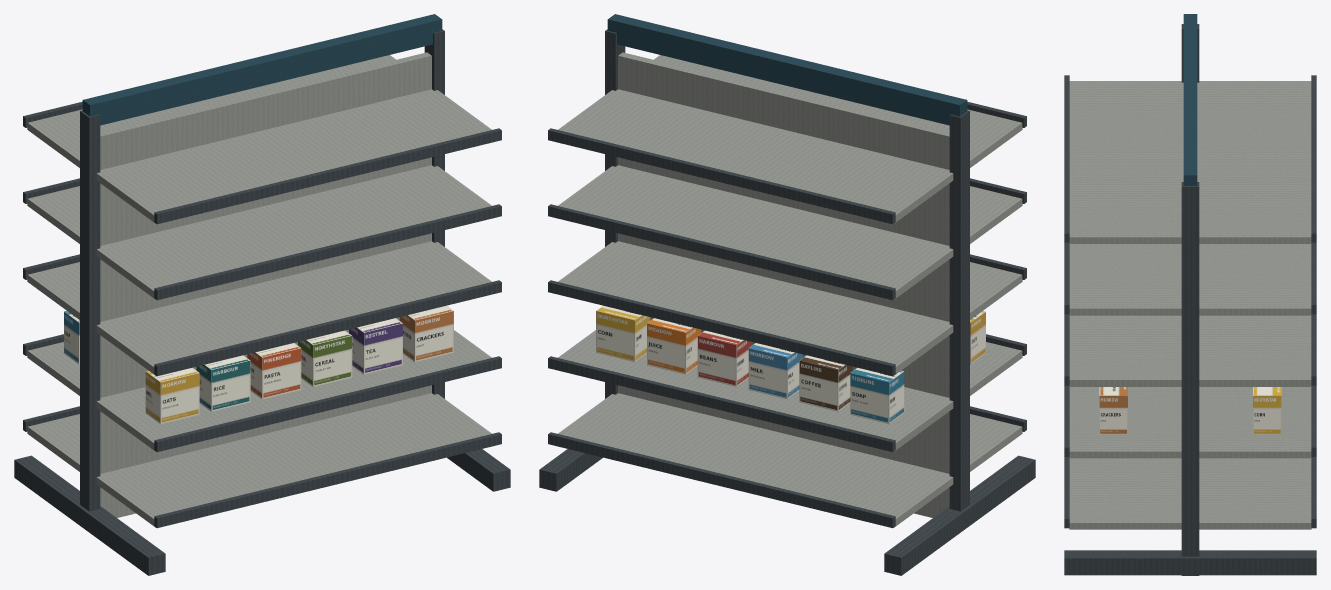
The model's file is PZ_Market_DoubleSided_Aisle_2m.glb.
The picture shows the model from 3 angles, left to right: view 1: azimuth 30°, elevation 25°; view 2: azimuth 150°, elevation 25°; view 3: azimuth 270°, elevation 25°; orthographic projection. The views are drawn at different scales.
Visible parts, largest first — view 1: AisleMidline_BackPanel, Front_Shelf_1, Front_Shelf_3, Front_Shelf_4, Front_Shelf_5, DoubleAisleTop_Sign, L_CentralUpright, Front_Shelf_2, L_BaseFoot, Front_Shelf_1_PriceStrip, Front_Shelf_2_PriceStrip, Front_Shelf_3_PriceStrip (+16 smaller); view 2: AisleMidline_BackPanel, Rear_Shelf_1, Rear_Shelf_3, Rear_Shelf_4, Rear_Shelf_5, DoubleAisleTop_Sign, L_CentralUpright, Rear_Shelf_2, L_BaseFoot, Rear_Shelf_1_PriceStrip, Rear_Shelf_2_PriceStrip, Rear_Shelf_3_PriceStrip (+16 smaller); view 3: Front_Shelf_5, Rear_Shelf_5, Front_Shelf_1, Front_Shelf_4, Rear_Shelf_1, Rear_Shelf_4, Front_Shelf_3, Rear_Shelf_3, R_CentralUpright, Front_Shelf_2, Rear_Shelf_2, R_BaseFoot (+14 smaller).
Boxes of the visible parts, box(x1,y1,x2,y2) form: AisleMidline_BackPanel: box(100, 52, 431, 517); Front_Shelf_1: box(96, 393, 491, 527); Front_Shelf_3: box(96, 241, 491, 375); Front_Shelf_4: box(96, 165, 491, 299); Front_Shelf_5: box(96, 89, 491, 223); DoubleAisleTop_Sign: box(82, 14, 442, 125); L_CentralUpright: box(80, 110, 100, 511); Front_Shelf_2: box(96, 330, 491, 451); L_BaseFoot: box(14, 455, 165, 575); Front_Shelf_1_PriceStrip: box(154, 432, 501, 528); Front_Shelf_2_PriceStrip: box(154, 356, 501, 452); Front_Shelf_3_PriceStrip: box(154, 280, 501, 376); AisleMidline_BackPanel: box(618, 52, 949, 517); Rear_Shelf_1: box(558, 393, 953, 527); Rear_Shelf_3: box(558, 241, 953, 375); Rear_Shelf_4: box(558, 165, 953, 299); Rear_Shelf_5: box(558, 89, 953, 223); DoubleAisleTop_Sign: box(607, 14, 967, 125); L_CentralUpright: box(949, 110, 969, 511); Rear_Shelf_2: box(558, 330, 953, 451); L_BaseFoot: box(884, 455, 1035, 575); Rear_Shelf_1_PriceStrip: box(548, 432, 895, 528); Rear_Shelf_2_PriceStrip: box(548, 356, 895, 452); Rear_Shelf_3_PriceStrip: box(548, 280, 895, 376); Front_Shelf_5: box(1069, 81, 1183, 243); Rear_Shelf_5: box(1197, 81, 1311, 243); Front_Shelf_1: box(1069, 458, 1181, 529); Front_Shelf_4: box(1069, 244, 1181, 315); Rear_Shelf_1: box(1199, 458, 1311, 529); Rear_Shelf_4: box(1199, 244, 1311, 315); Front_Shelf_3: box(1069, 315, 1181, 386); Rear_Shelf_3: box(1199, 315, 1311, 386); R_CentralUpright: box(1181, 182, 1199, 575); Front_Shelf_2: box(1069, 387, 1181, 458); Rear_Shelf_2: box(1199, 387, 1311, 458); R_BaseFoot: box(1064, 550, 1316, 575).
Bounding box in the file's own units: 1.99 × 2.24 × 1.28.
Materials: 4 (4 with a texture image).
